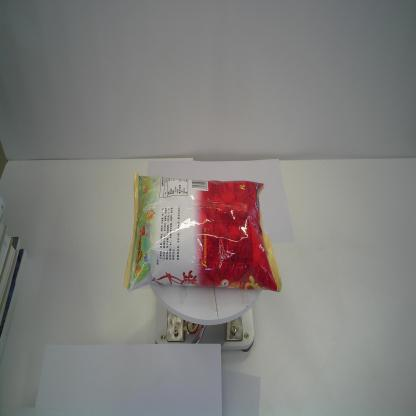Puffed Food: (123, 171, 282, 294)
